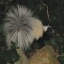skunk: (6, 6, 54, 45)
